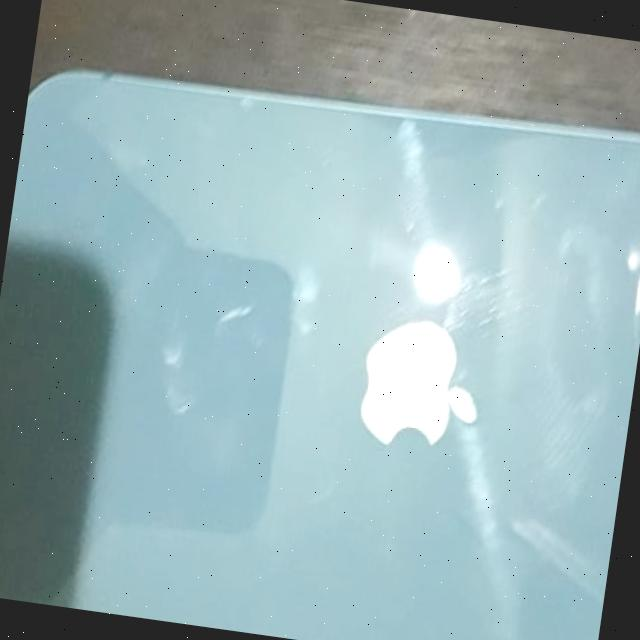Scratches: (440, 236, 561, 337)
